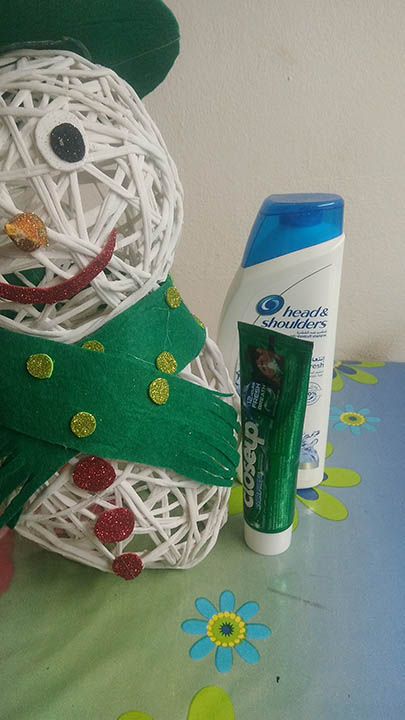Toothpaste-Closeup 3.04$: (235, 325, 309, 560)
shampoo-Lemon 3.5$: (222, 187, 349, 499)
